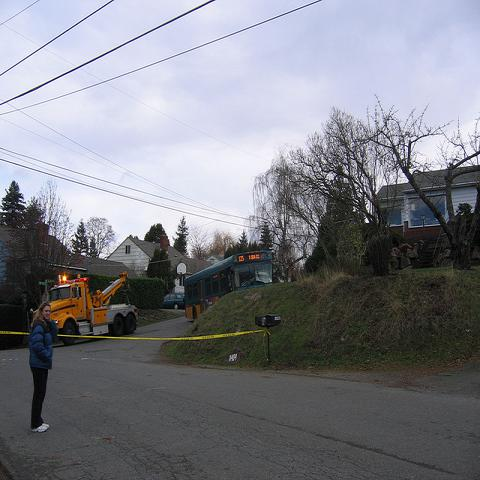bus: (183, 250, 276, 319)
car: (162, 294, 185, 310)
truck: (48, 270, 138, 348)
